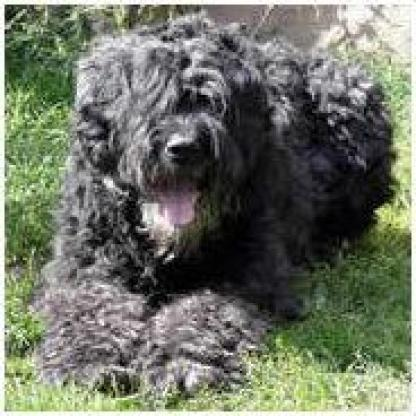Bouvier_des_Flandres: (32, 11, 393, 396)
